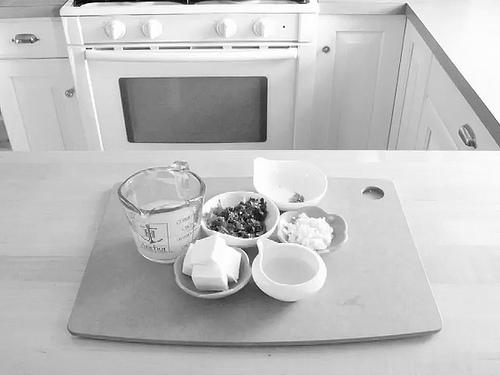glass: (118, 152, 348, 202), (351, 171, 356, 215)
